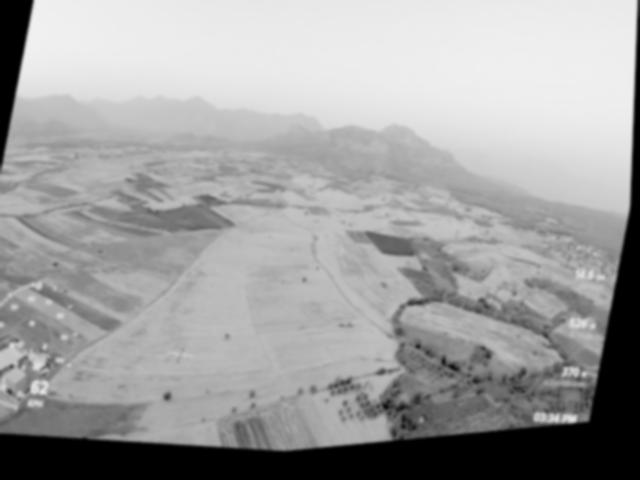hedef: (166, 347, 199, 376)
